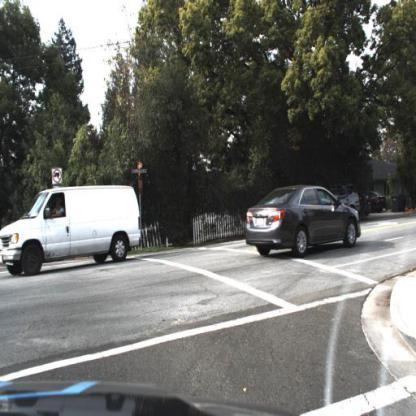car: (0, 184, 144, 274), (243, 179, 364, 259), (368, 188, 388, 216)
